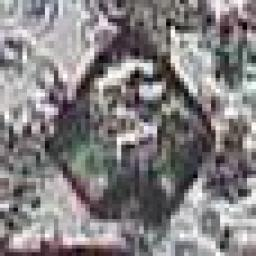crystals: (33, 25, 223, 236)
